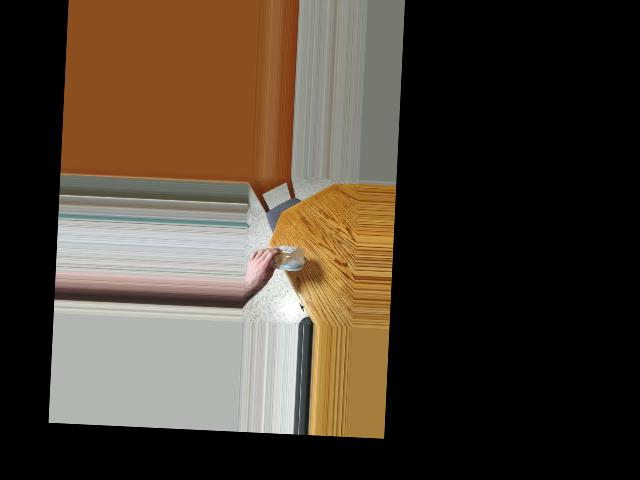cheese: (261, 237, 309, 281)
